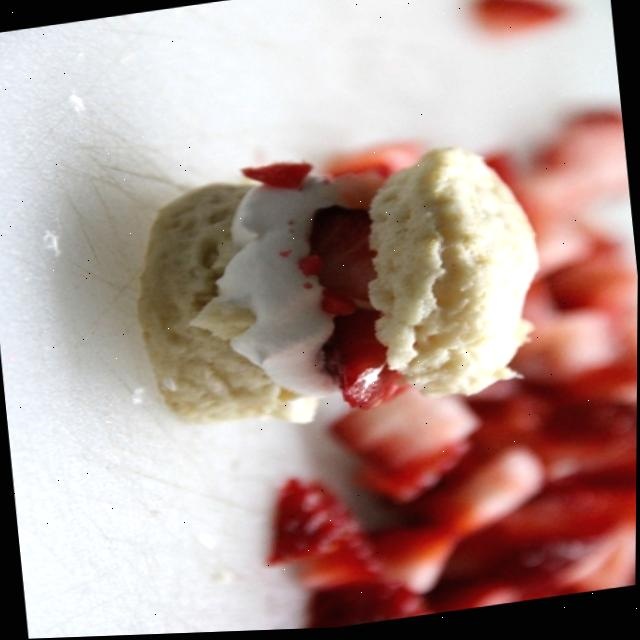蛋糕甜品: (32, 48, 609, 536)
